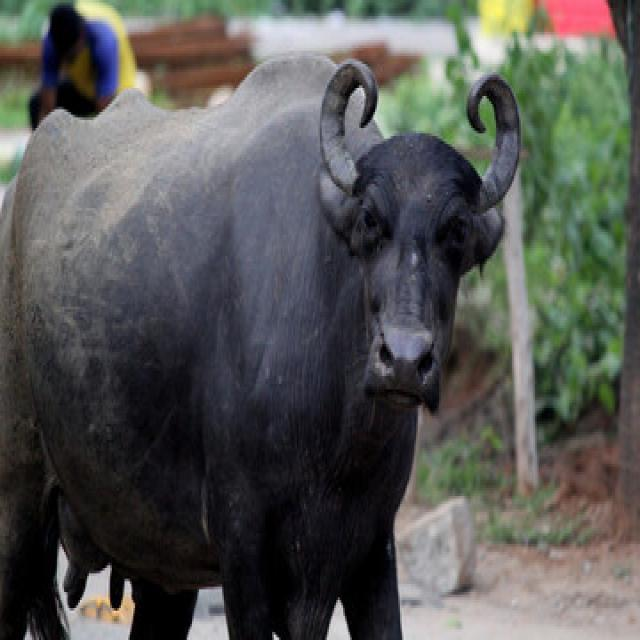Buffalo: (0, 48, 521, 637)
